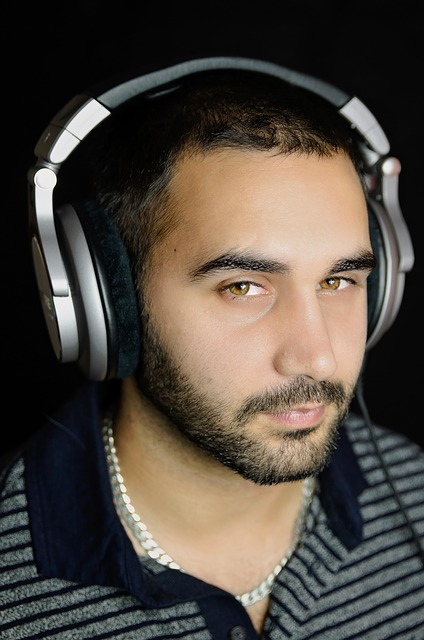headphones: (30, 57, 414, 381)
